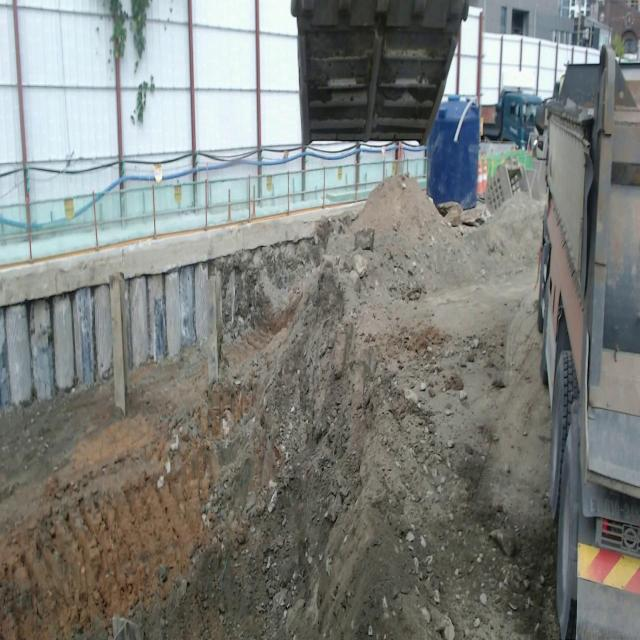white-sand: (0, 179, 559, 639)
